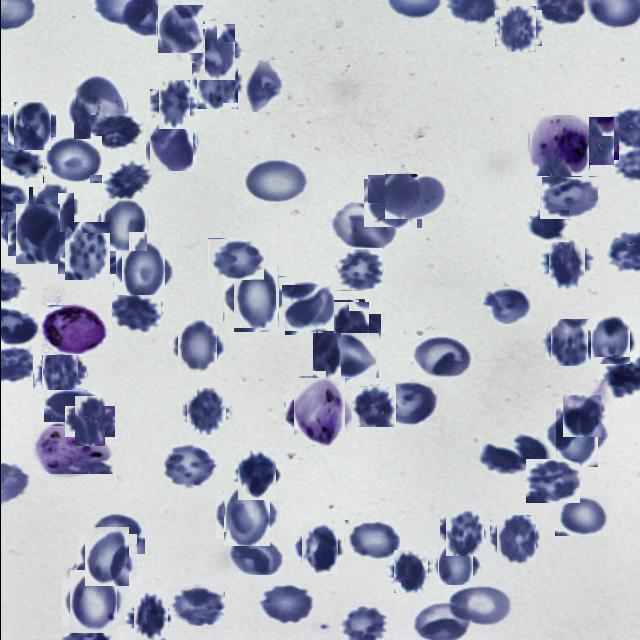gametocyte: (38, 306, 107, 356)
red blood cell: (70, 77, 128, 136), (329, 204, 396, 252), (227, 271, 283, 327), (317, 327, 373, 383), (65, 574, 120, 630), (242, 159, 308, 205), (445, 585, 513, 628), (220, 488, 274, 542), (384, 174, 447, 219), (116, 244, 170, 296), (550, 408, 602, 462), (42, 136, 101, 183), (366, 177, 418, 230), (80, 530, 132, 582), (60, 225, 112, 277), (12, 208, 64, 260), (98, 198, 148, 249), (412, 336, 471, 379), (540, 176, 598, 219), (381, 382, 437, 426), (282, 284, 332, 333), (163, 444, 216, 490), (525, 459, 579, 503), (258, 584, 314, 626), (208, 238, 264, 280), (190, 28, 238, 76), (327, 308, 374, 356), (169, 585, 224, 626), (344, 520, 399, 561), (554, 496, 610, 536), (147, 122, 194, 169), (156, 5, 203, 52), (227, 537, 284, 575), (174, 322, 220, 369), (90, 514, 144, 554), (314, 299, 364, 342), (233, 452, 279, 498), (194, 60, 240, 106), (30, 184, 76, 230), (493, 517, 537, 563), (37, 350, 82, 394), (296, 528, 341, 572), (244, 59, 281, 112), (110, 294, 160, 333), (480, 285, 530, 324), (544, 241, 588, 285), (588, 318, 632, 362), (442, 509, 486, 553), (336, 249, 382, 291), (184, 390, 227, 434), (352, 384, 395, 428), (43, 390, 101, 422), (10, 104, 52, 148), (573, 120, 616, 162), (434, 546, 476, 588), (496, 8, 538, 50), (548, 322, 590, 364), (128, 596, 170, 638), (102, 163, 149, 199), (69, 401, 109, 442), (390, 551, 430, 591), (562, 396, 602, 436), (154, 85, 194, 125), (90, 115, 136, 148), (526, 210, 568, 242)
trophozoite: (32, 426, 112, 474), (288, 380, 349, 441), (528, 116, 589, 176)
